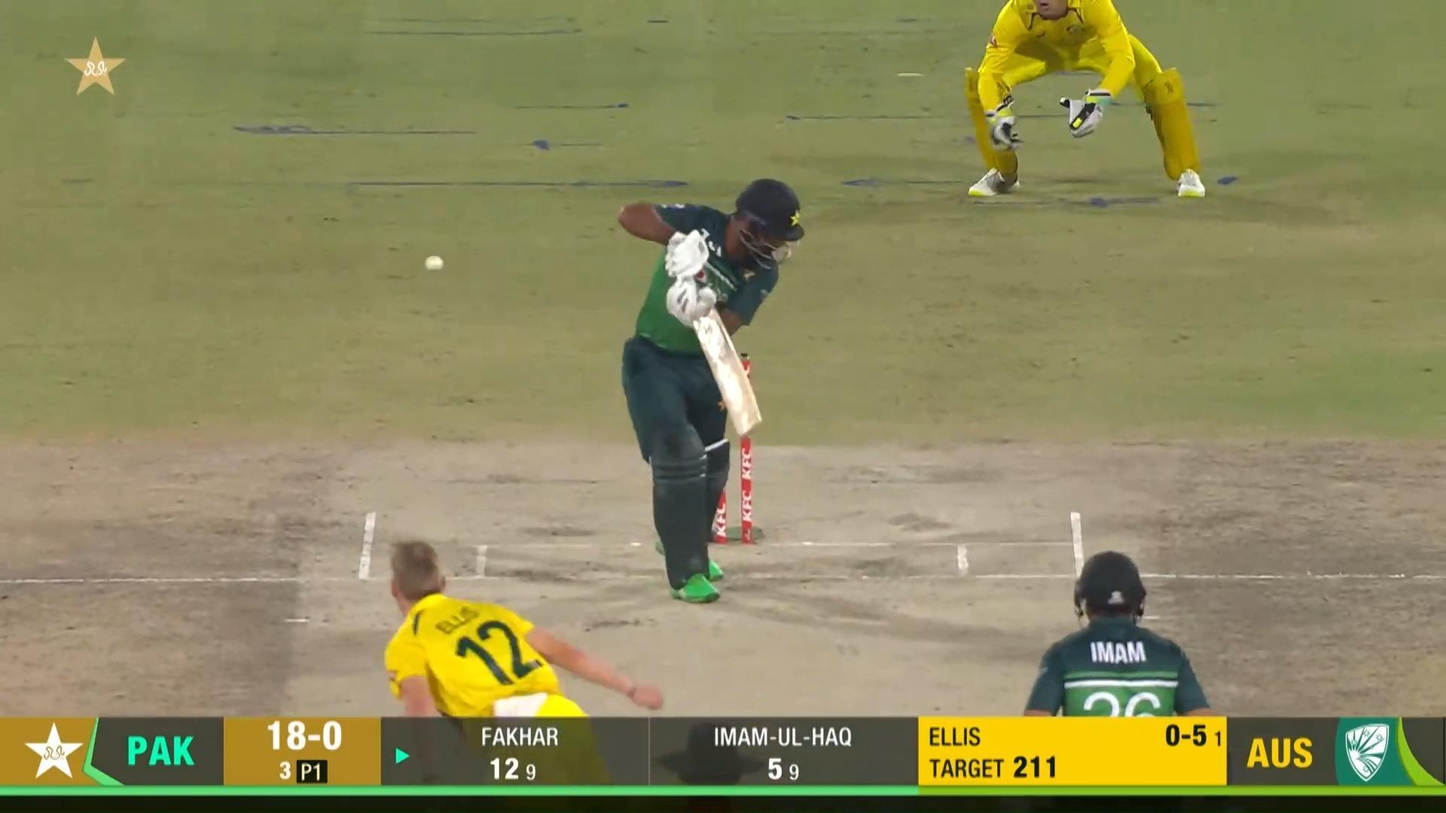BM 1: (617, 175, 809, 608)
BO: (381, 536, 666, 781)
